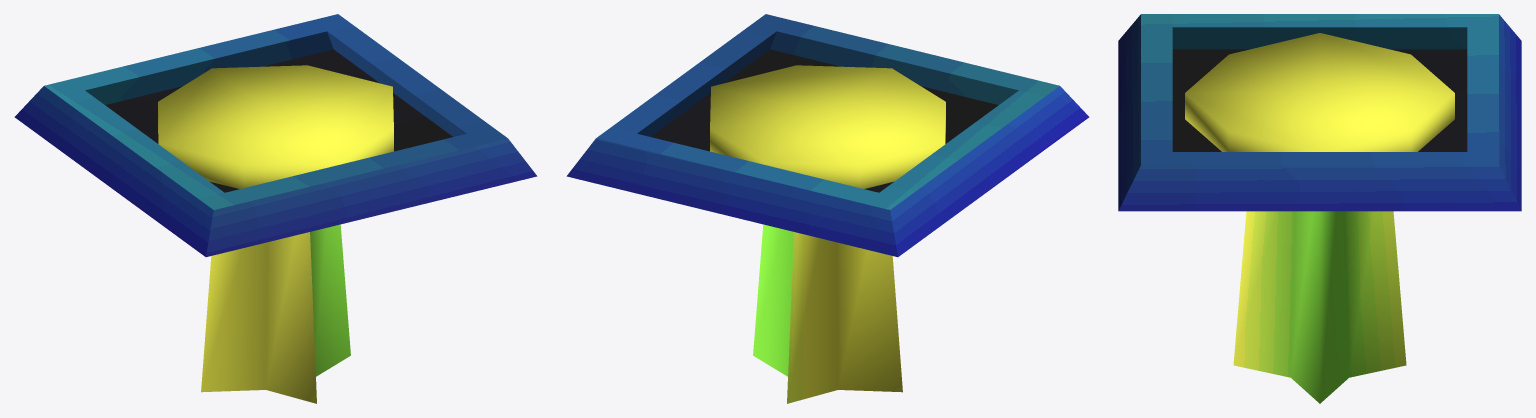
Rendered from Jumper2.fbx.
3 views of the same model, side by side, from view 1: azimuth 30°, elevation 25°; view 2: azimuth 150°, elevation 25°; view 3: azimuth 270°, elevation 25° (orthographic). The views are drawn at different scales.
Visible parts, largest first — view 1: JumperStaticMesh, JumperMovingMesh; view 2: JumperStaticMesh, JumperMovingMesh; view 3: JumperStaticMesh, JumperMovingMesh.
Boxes of the visible parts, <box> form: JumperStaticMesh: <box>14,14,537,257</box>; JumperMovingMesh: <box>158,65,393,403</box>; JumperStaticMesh: <box>566,14,1089,257</box>; JumperMovingMesh: <box>710,65,945,403</box>; JumperStaticMesh: <box>1118,14,1521,211</box>; JumperMovingMesh: <box>1185,33,1454,403</box>.
Size of the model in its own units: 224 by 169 by 224.
